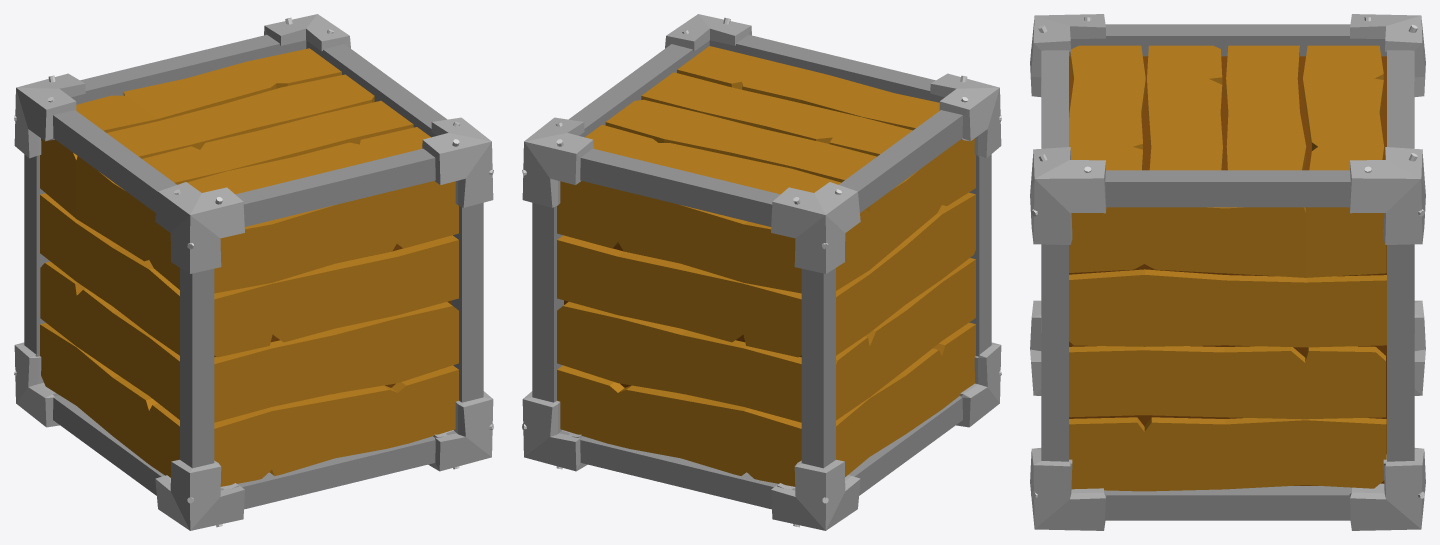
The picture shows the model from 3 angles, left to right: view 1: azimuth 30°, elevation 25°; view 2: azimuth 150°, elevation 25°; view 3: azimuth 270°, elevation 25°; orthographic projection. The views are drawn at different scales.
Parts seen in each view (by area): view 1: Cube; view 2: Cube; view 3: Cube.
Part boxes in pixels (<box>): Cube: <box>14,14,493,530</box>; Cube: <box>522,14,1001,530</box>; Cube: <box>1030,14,1425,530</box>.
Bounding box in the file's own units: 212 × 216 × 212.
